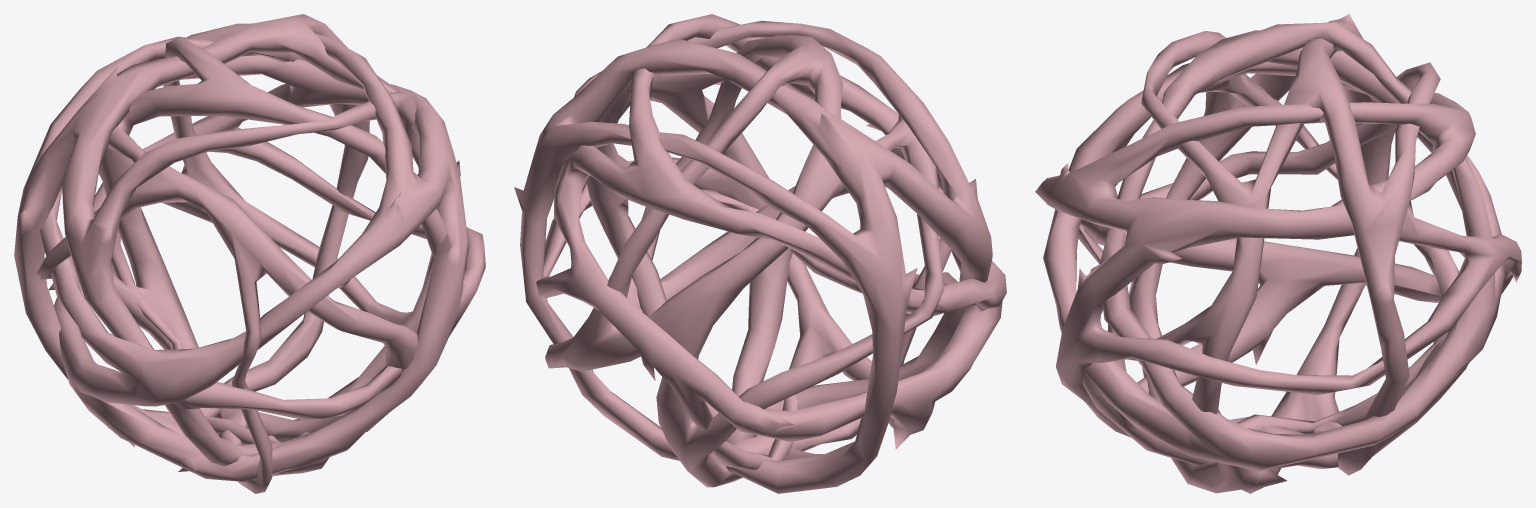
Rendered from ball.fbx.
3 views of the same model, side by side, from view 1: azimuth 30°, elevation 25°; view 2: azimuth 150°, elevation 25°; view 3: azimuth 270°, elevation 25° (orthographic). The views are drawn at different scales.
Parts seen in each view (by area): view 1: low; view 2: low; view 3: low.
Part boxes in pixels (bbox=[...]): low: bbox=[14, 14, 485, 493]; low: bbox=[514, 14, 1006, 493]; low: bbox=[1035, 14, 1521, 493].
Bounding box in the file's own units: 4.5 × 4.56 × 4.53.
